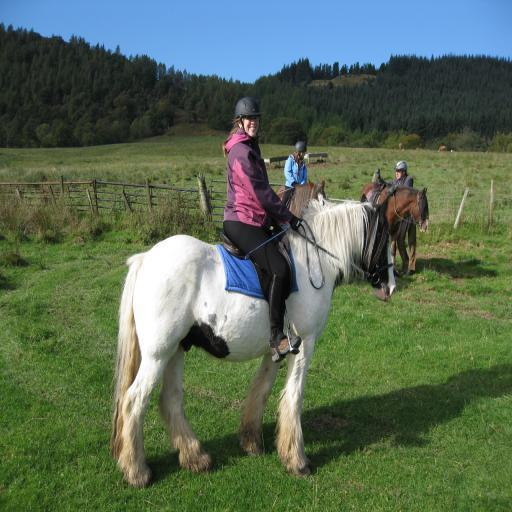horse: (108, 195, 397, 487), (360, 182, 430, 274), (276, 178, 329, 220)
